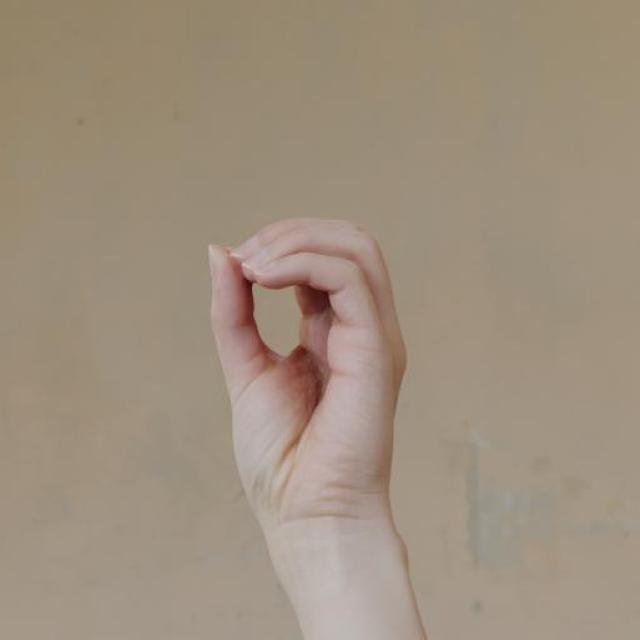O: (209, 211, 412, 529)
